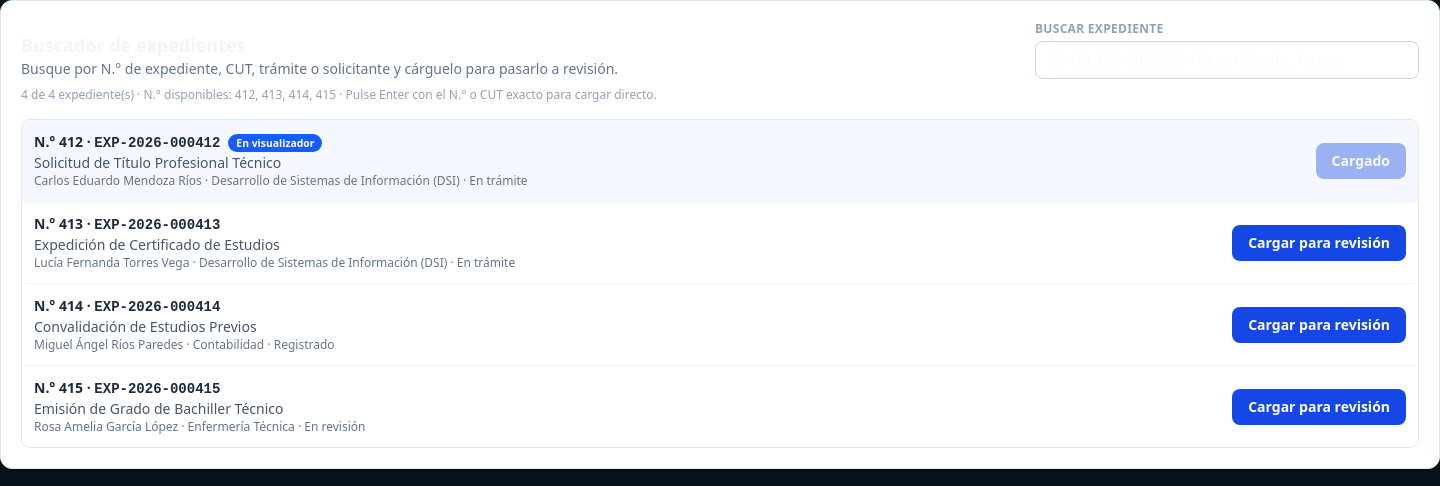
Test case: Buscador de expedientes — ENT-M04-01 › lista la bandeja demo y filtra por CUT
expect the text "EXP-2026-000412" is shown: met, box [94,135,220,151]
expect the text "EXP-2026-000413" is shown: met, box [94,217,220,233]
In the search field named "Buscar expediente por número": (1227, 60) [1035,41,1419,79], type "000413"
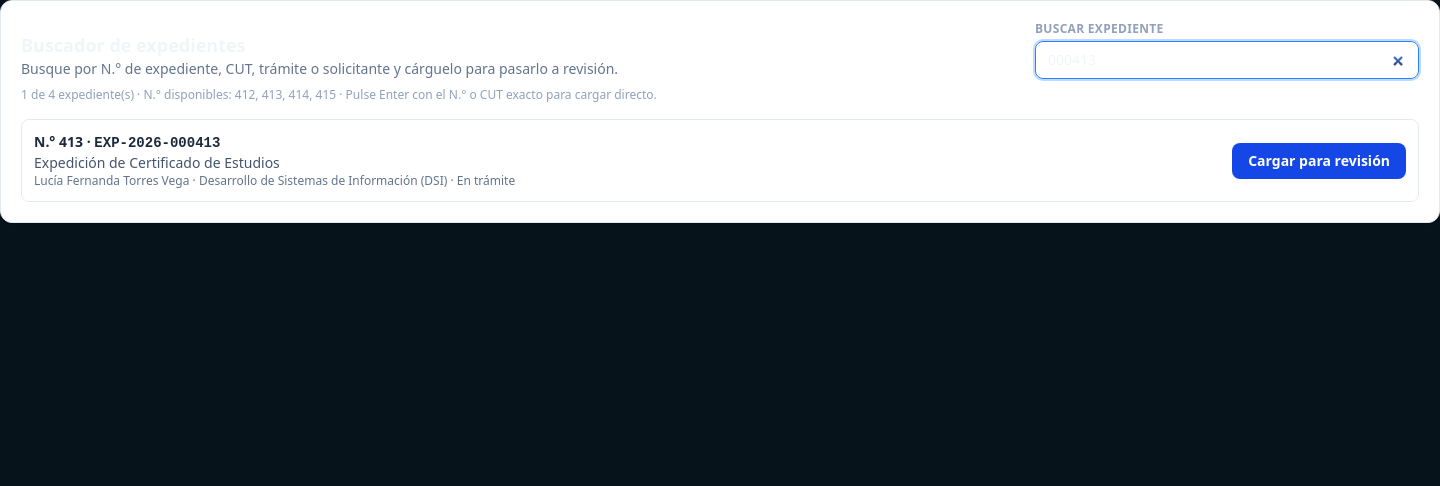
expect the text "EXP-2026-000413" is shown: met, box [94,135,220,151]
expect the text "EXP-2026-000412" is gone: met
